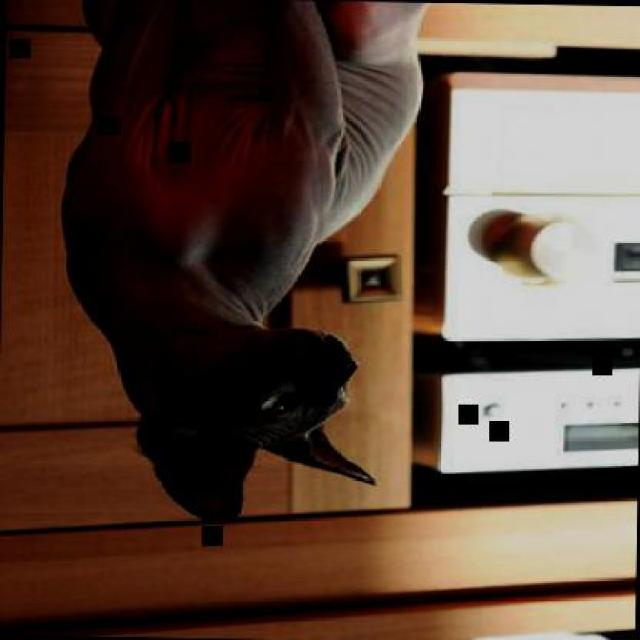cat: (49, 0, 436, 529)
